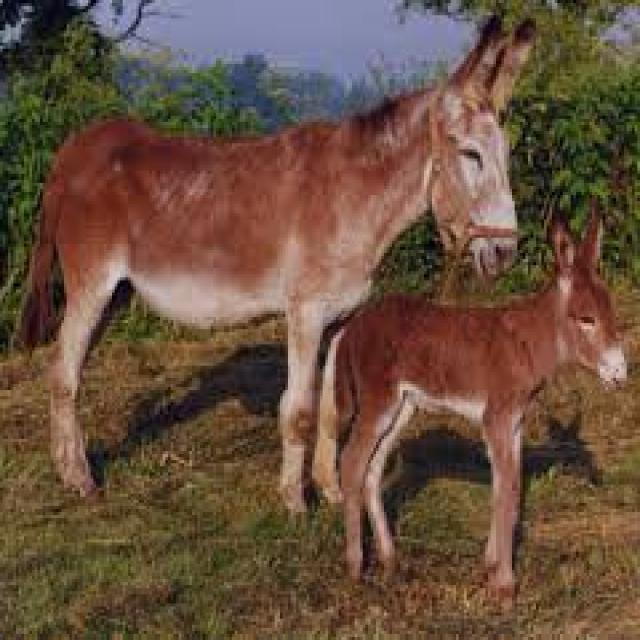Donkey: (17, 21, 554, 516), (311, 215, 640, 602)
